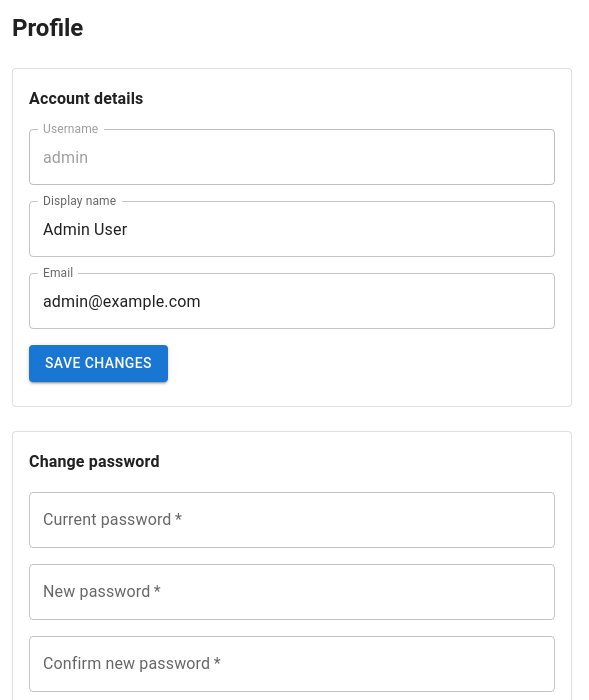
Scenario: ProfilePage › saves profile changes successfully
Step 1. Replace the text in the field labelled "Display name" with "New Name" → (292, 229), box [29,201,555,257]
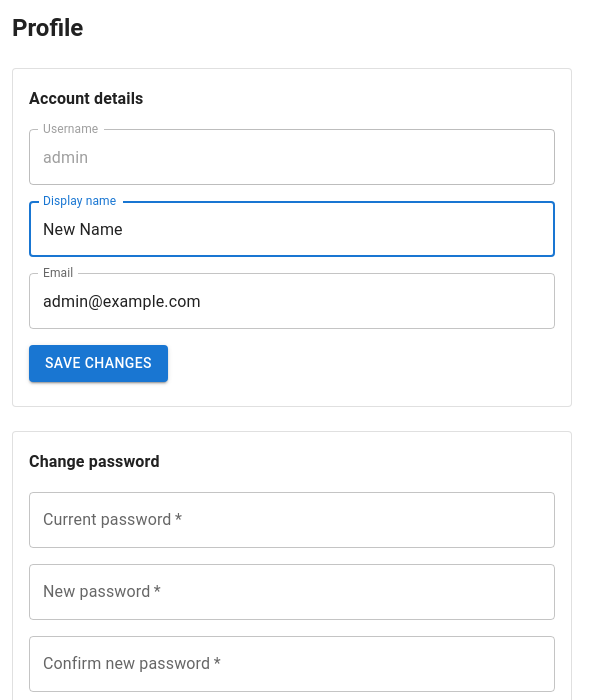
Step 2. Click the button "Save changes" → click(98, 363), box [29,345,168,382]
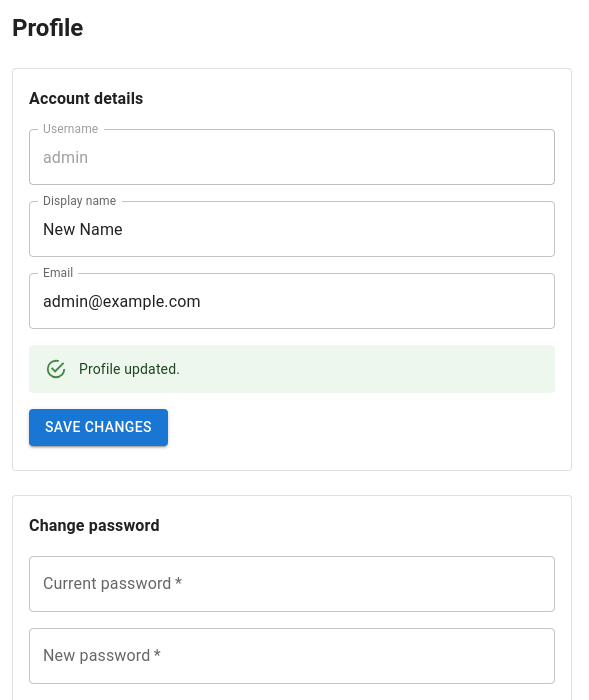
Expected: the text "Profile updated." is shown, [79,361,180,377]
